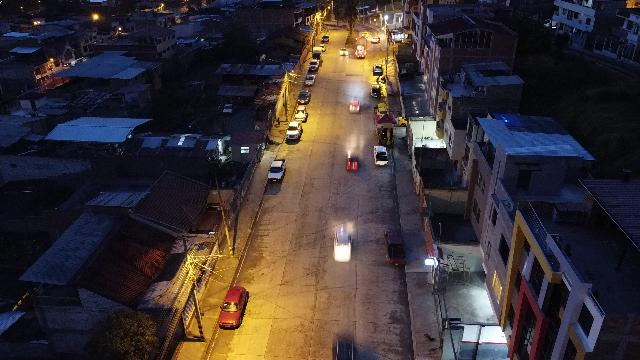Vehiculo: (218, 286, 248, 330), (384, 229, 406, 264), (268, 160, 286, 182), (286, 120, 302, 140), (374, 146, 388, 166), (294, 106, 308, 122), (374, 102, 388, 115), (298, 89, 310, 104), (305, 74, 315, 86), (370, 85, 380, 97), (312, 48, 322, 60), (223, 103, 233, 114), (373, 64, 382, 76), (309, 60, 319, 70), (339, 48, 348, 56), (372, 37, 380, 43), (320, 44, 326, 52), (322, 36, 328, 42)
